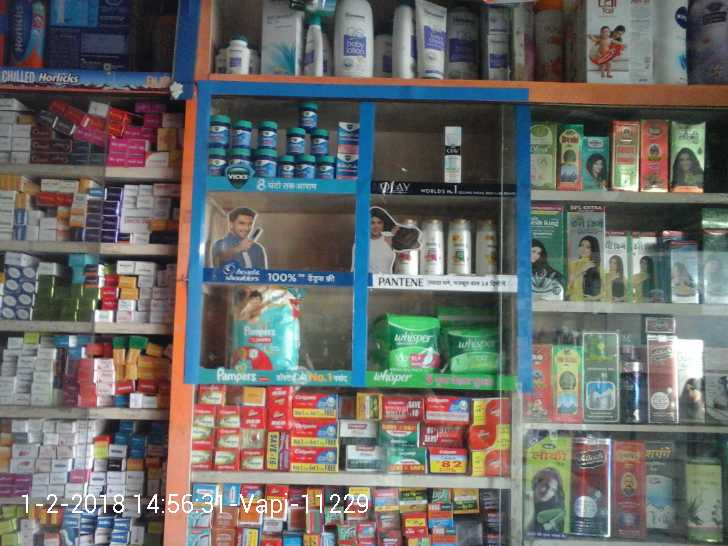beauty: (414, 216, 444, 278), (443, 213, 469, 276), (444, 114, 465, 186), (472, 216, 497, 273)
pharmacy: (230, 285, 297, 371), (380, 308, 444, 375), (441, 324, 509, 377), (298, 96, 324, 130), (232, 113, 255, 150), (281, 125, 305, 158), (203, 118, 234, 143), (258, 119, 282, 151), (308, 126, 330, 157)
